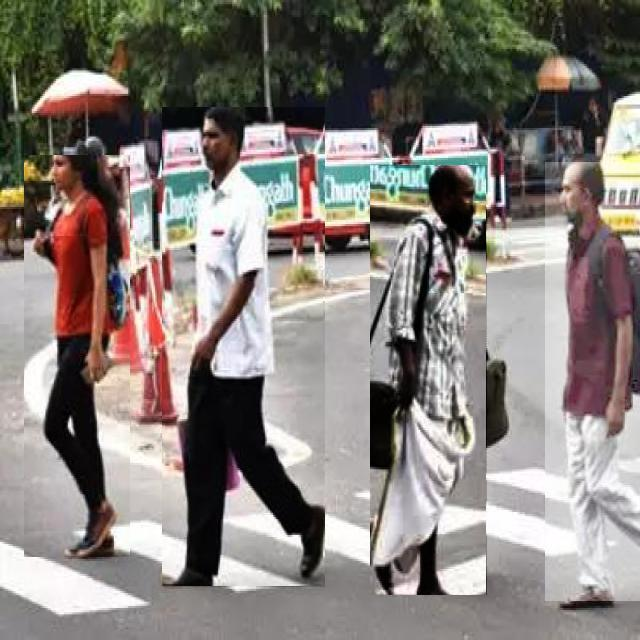without scooter: (162, 108, 325, 588), (371, 165, 488, 595), (24, 155, 130, 557), (545, 162, 640, 601)
